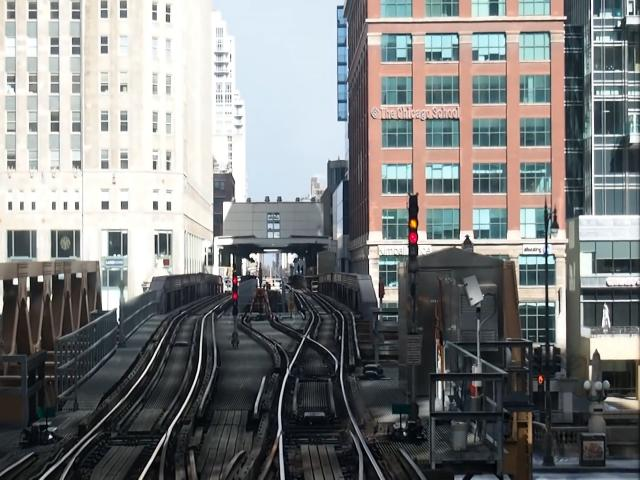signal light: (407, 191, 421, 278), (232, 273, 242, 320)
